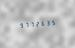five: (53, 18, 58, 26)
nine: (17, 21, 22, 29)
seven: (29, 20, 34, 28), (23, 21, 28, 28)
six: (41, 19, 46, 27)
three: (47, 19, 52, 26)
two: (35, 20, 40, 27)
